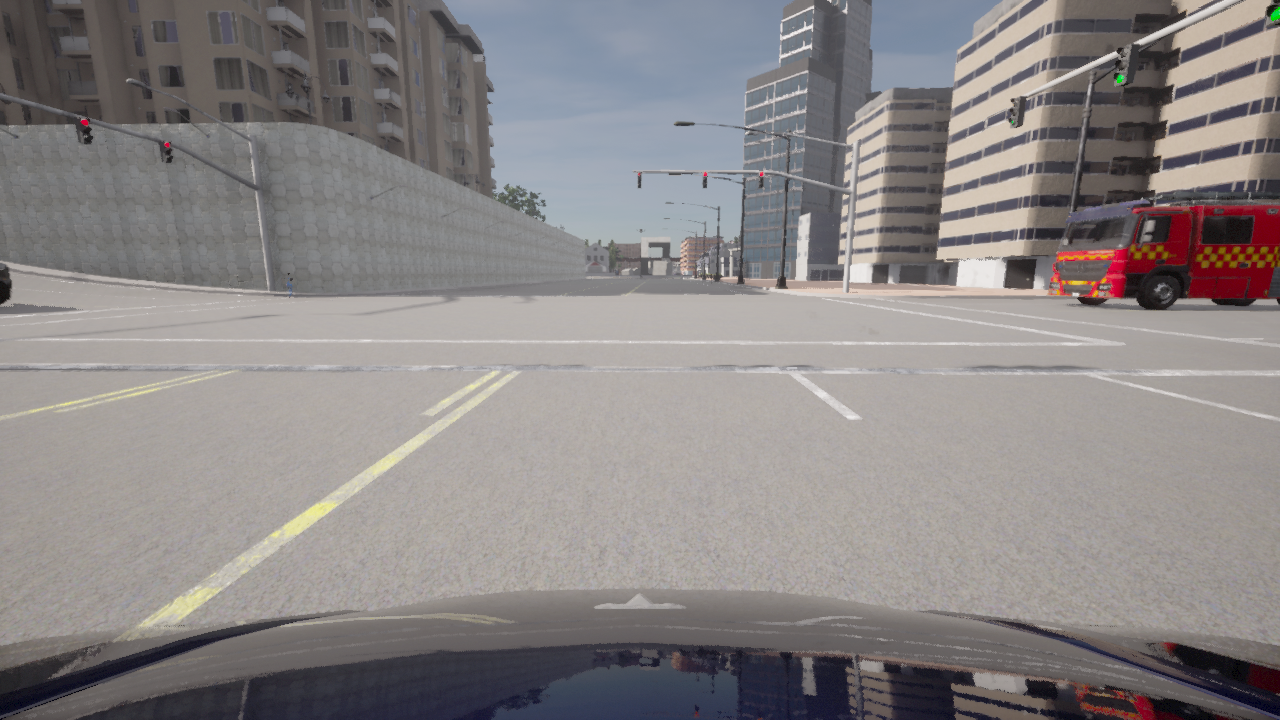cyclist: (0, 588, 1279, 719), (1048, 192, 1279, 309), (674, 272, 675, 274)
pedestrian: (282, 271, 294, 297)
